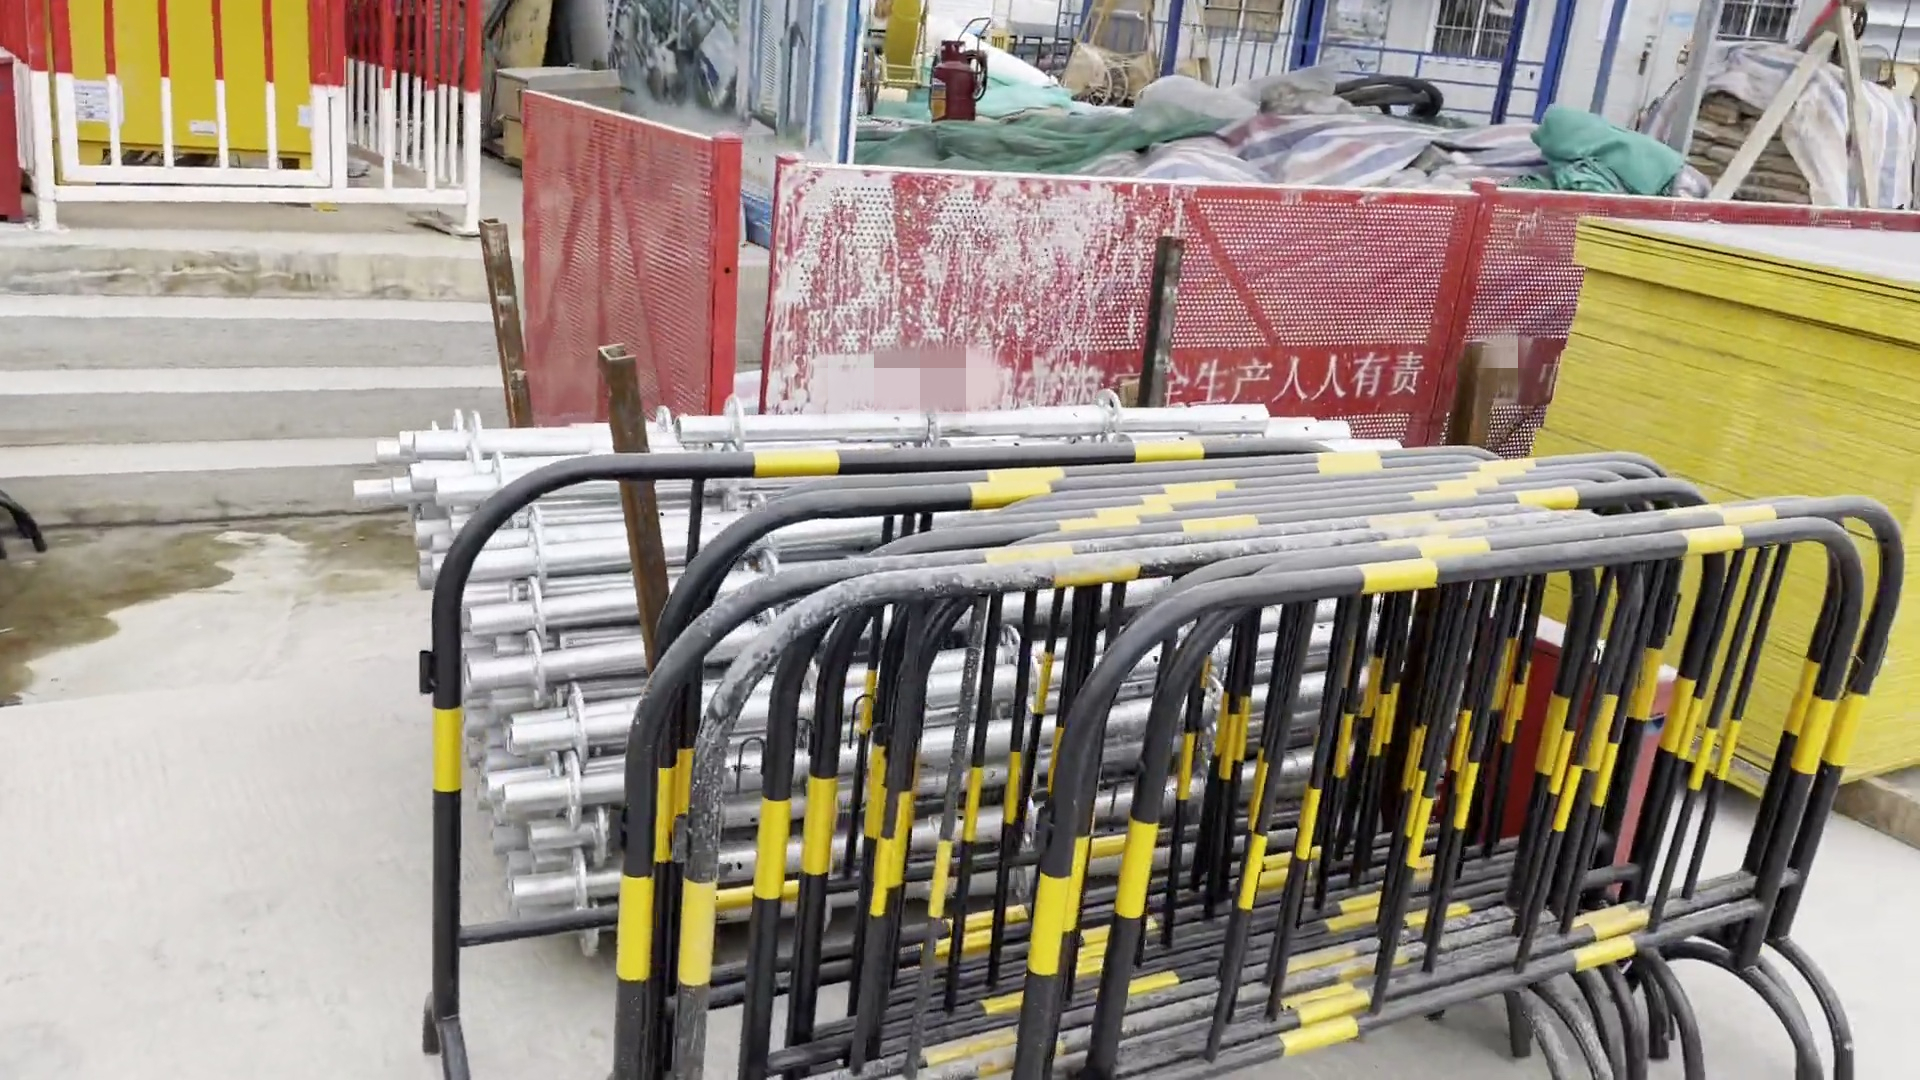board: (1510, 214, 1920, 793)
scaffold: (338, 367, 1507, 907)
slogan: (1127, 349, 1436, 401)
